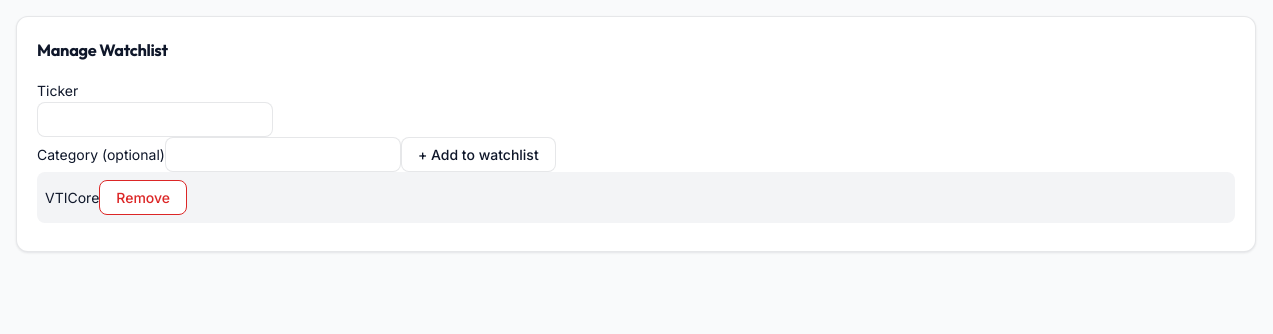
Test: WatchlistManagementPage › shows an inline error banner on a failed create, while keeping the form and list visible
Check: the text "VTI" is shown, box 45,189 -> 68,206
In the field labelled "Ticker": [155, 120] box 37,102 -> 273,137, type "IOVA"
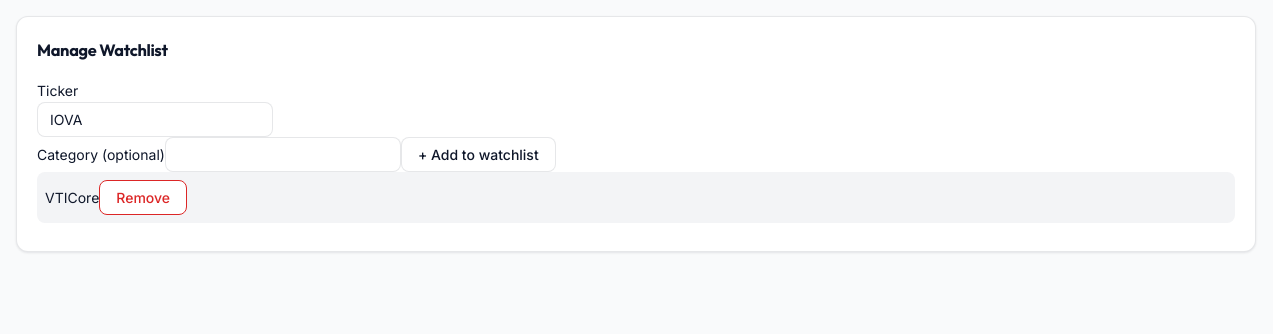
Click the button "+ Add to watchlist": [478, 154] box 401,137 -> 556,172
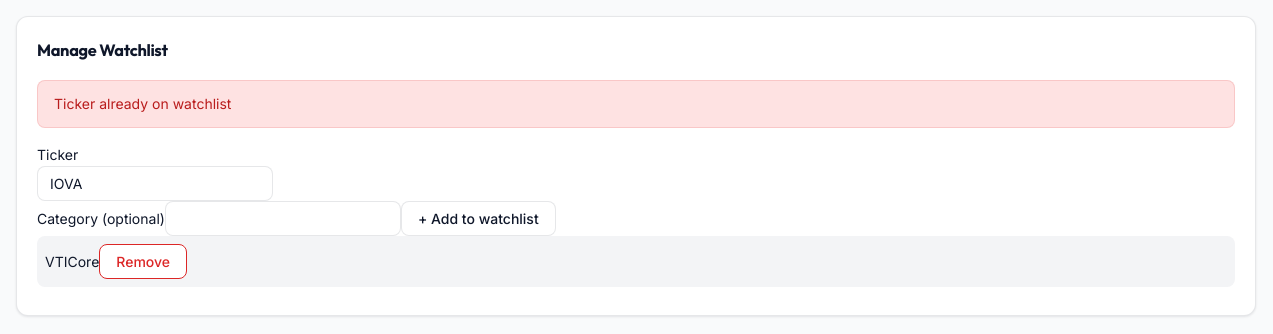
Check: the text "VTI" is shown, box 45,253 -> 68,270
Check: the message reads "Ticker already on watchlist", box 54,95 -> 232,112
